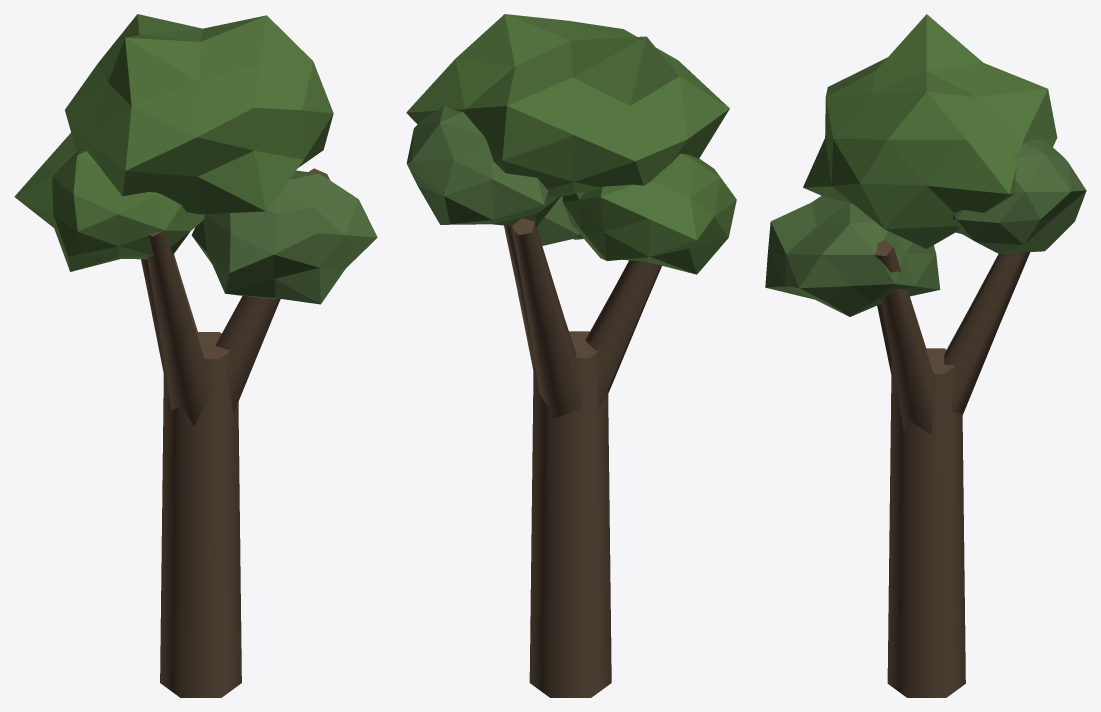
File: land-forest-06.glb
3 views of the same model, side by side, from view 1: azimuth 30°, elevation 25°; view 2: azimuth 150°, elevation 25°; view 3: azimuth 270°, elevation 25° (orthographic). The views are drawn at different scales.
Parts seen in each view (by area): view 1: land.forest.06; view 2: land.forest.06; view 3: land.forest.06.
Part boxes in pixels (box(x1,y1,x2,y2)): land.forest.06: box(14, 14, 377, 697); land.forest.06: box(406, 14, 736, 697); land.forest.06: box(765, 14, 1086, 697).
Size of the model in its own units: 2.19 by 5 by 2.3.
